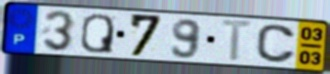3: (37, 9, 78, 53)
7: (127, 12, 164, 59)
9: (169, 17, 203, 60)
C: (255, 23, 298, 65)
Q: (79, 12, 116, 55)
T: (219, 18, 257, 63)
